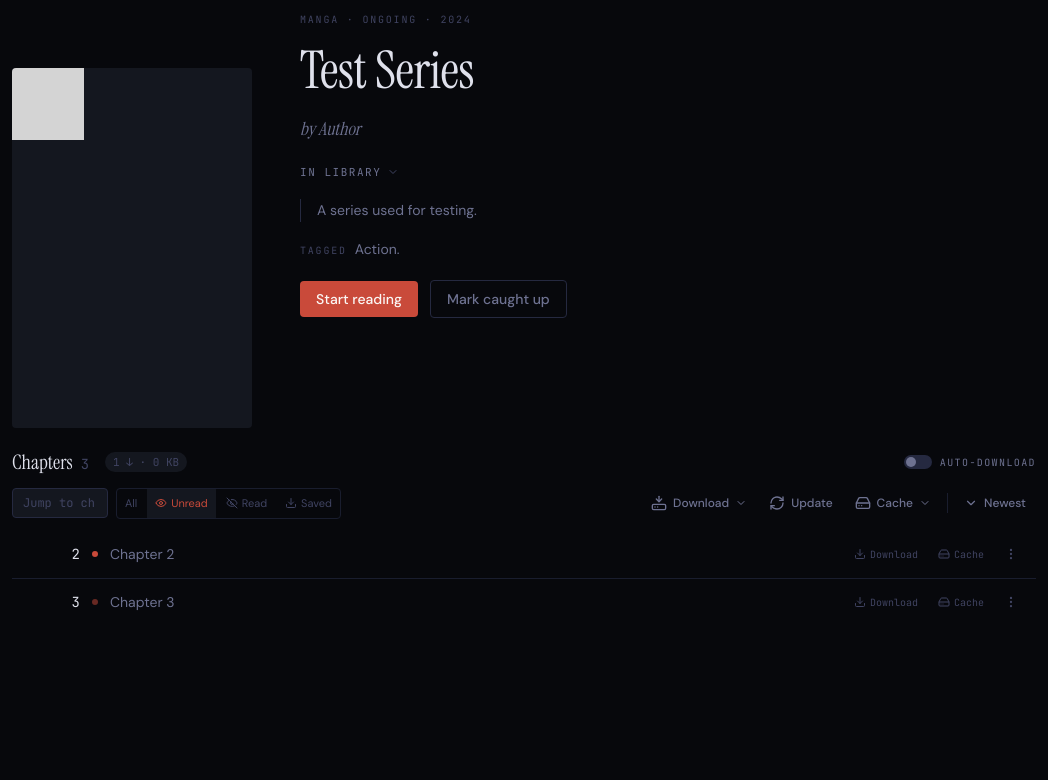
Test: SeriesView › hides library status buckets for NSFW series already in the library
This screenshot has width=1048, height=780.
Expected: the heading "Test Series" is shown, [300,37,474,104]
Expected: the text "In library" is shown, [300,164,381,180]
Click the button with aria-label "Library actions": coordinates (350, 172) [300,164,399,180]
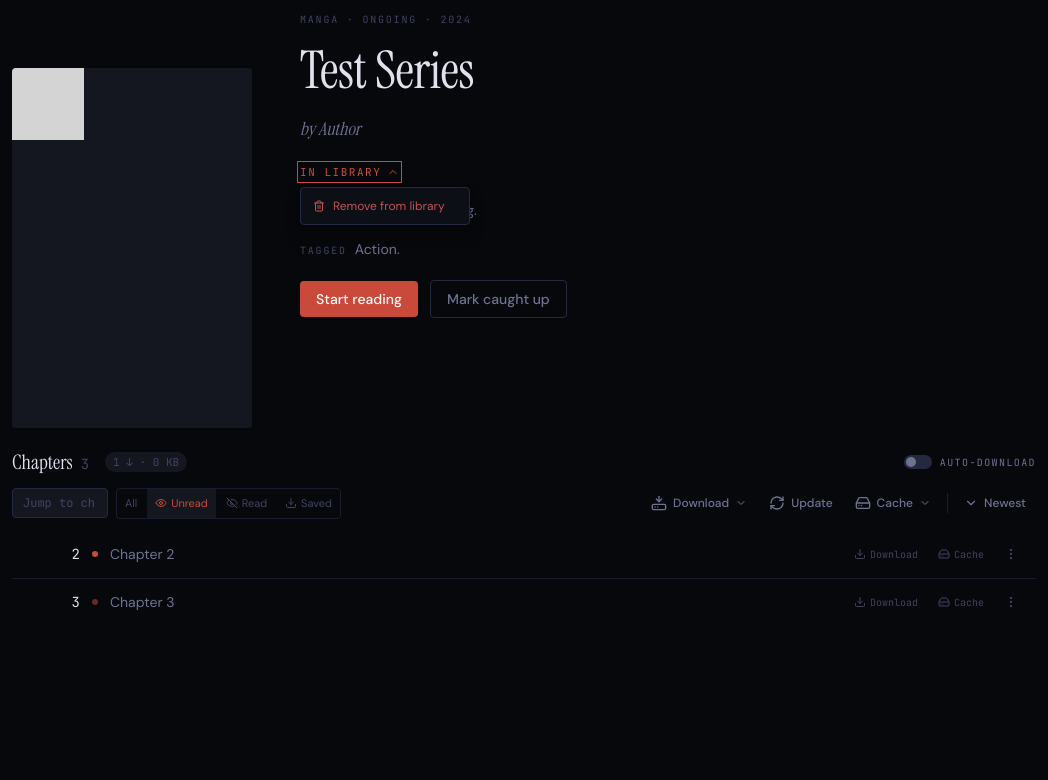
Expected: the menu item "Remove from library" is shown, [301,192,469,220]
